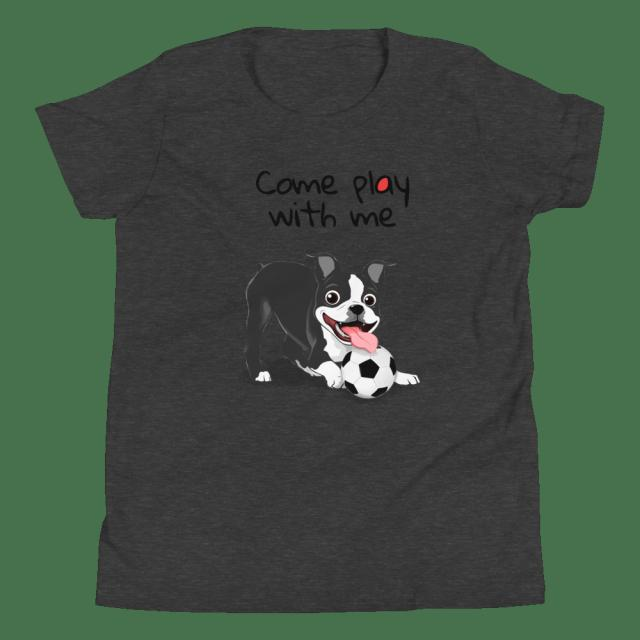shirt: (39, 26, 607, 600)
